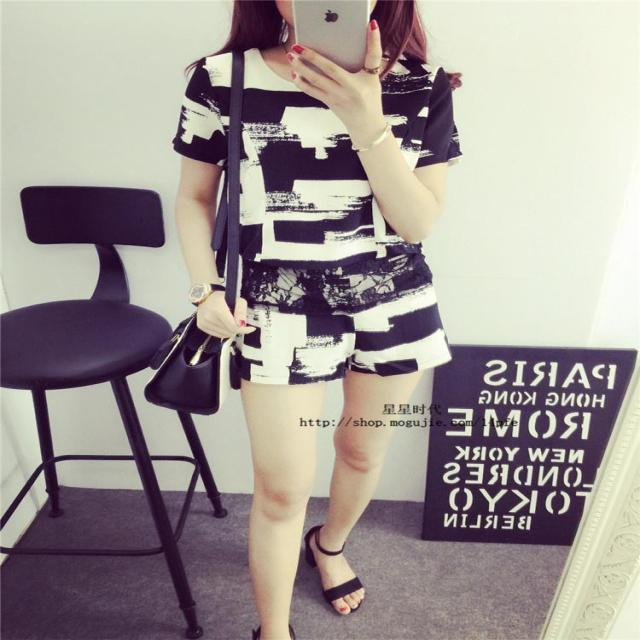short-sleeve-dress: (174, 38, 491, 408)
